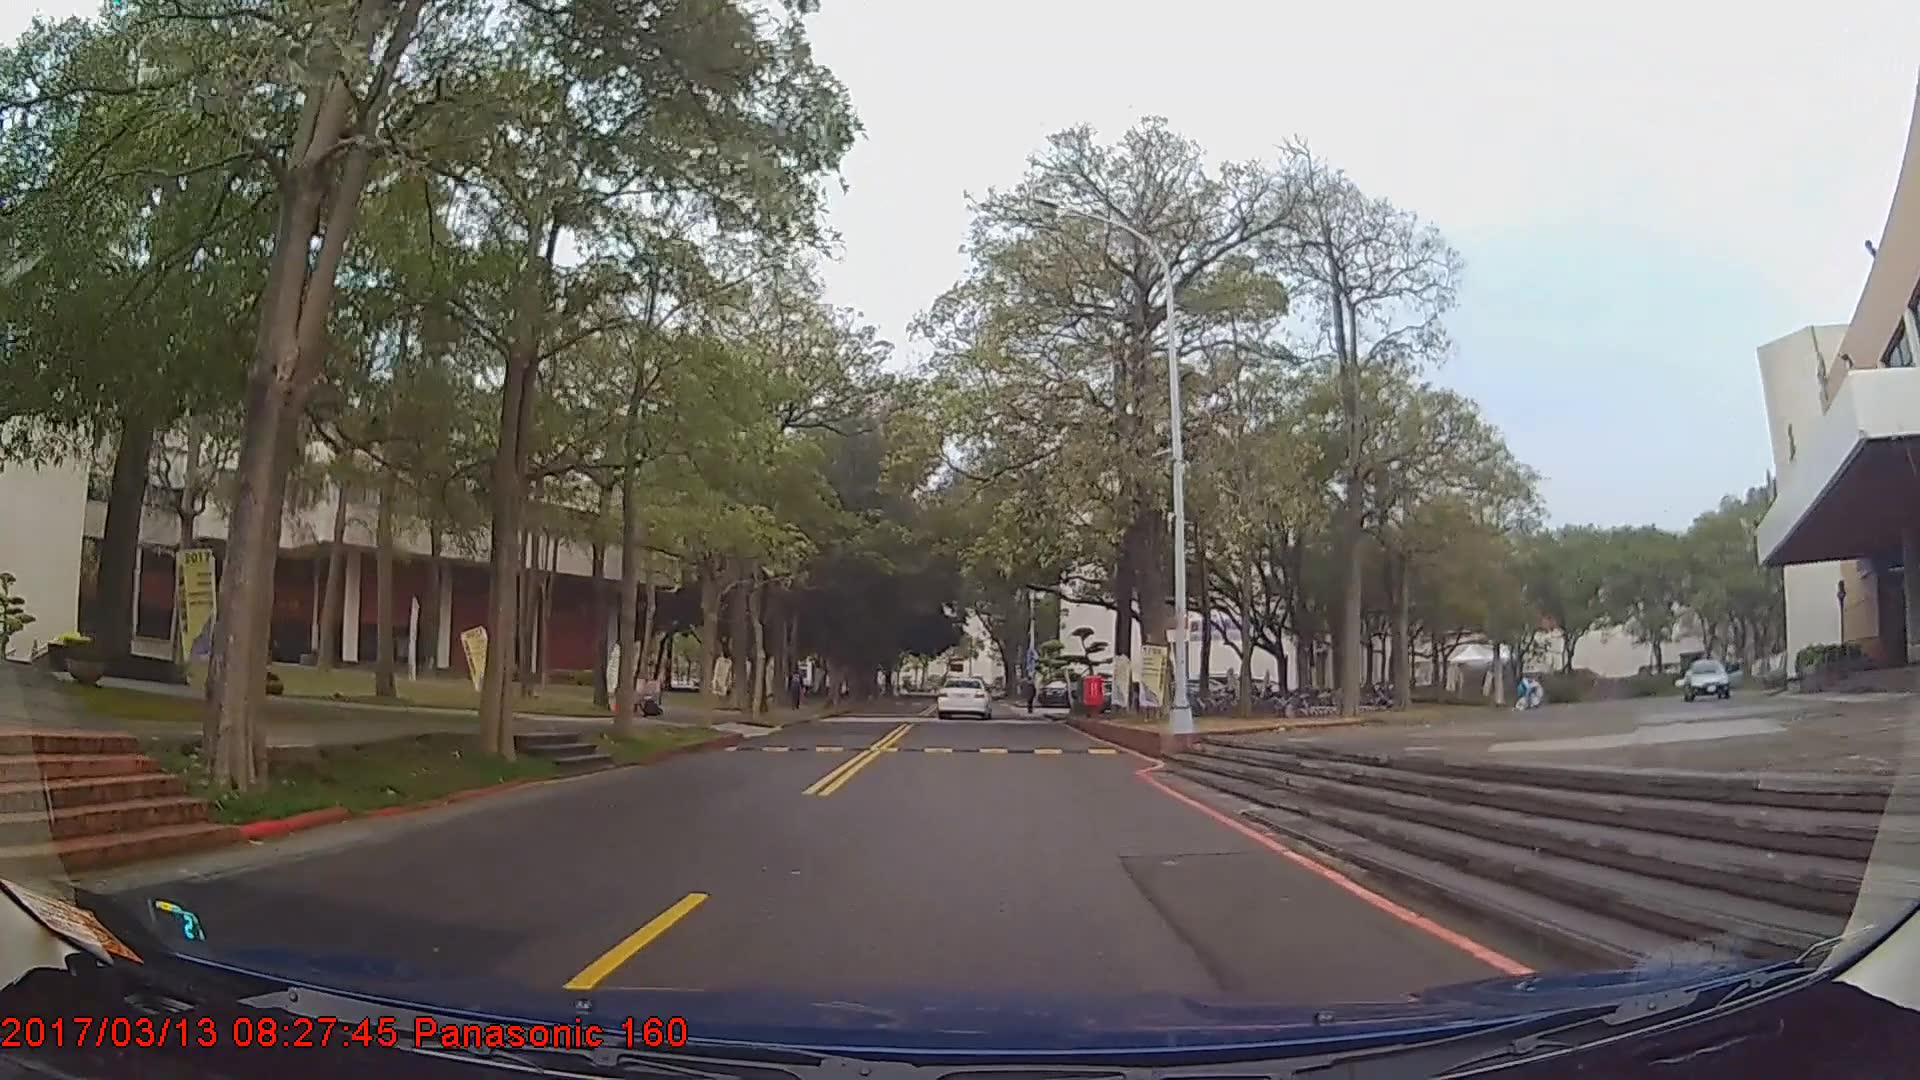vehicle: (1679, 654, 1747, 702), (935, 676, 992, 720)
